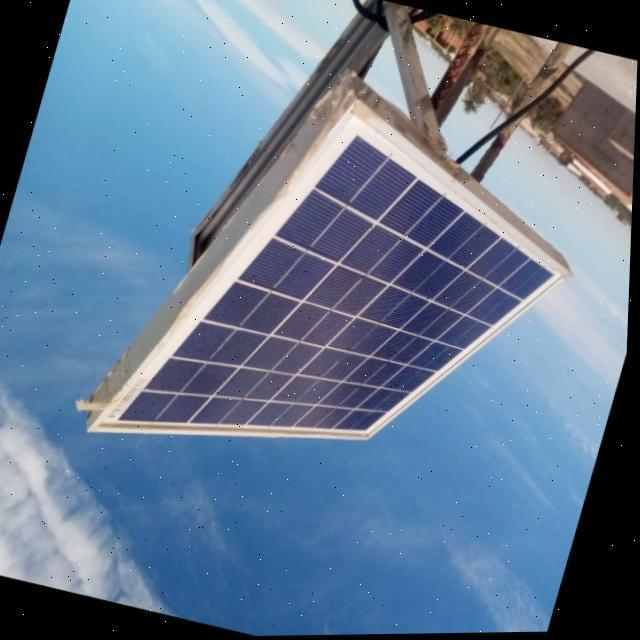Normal Solar Panel: (90, 62, 604, 536)
